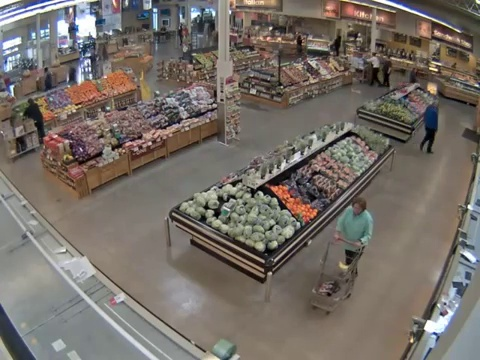face: (353, 203, 365, 215)
